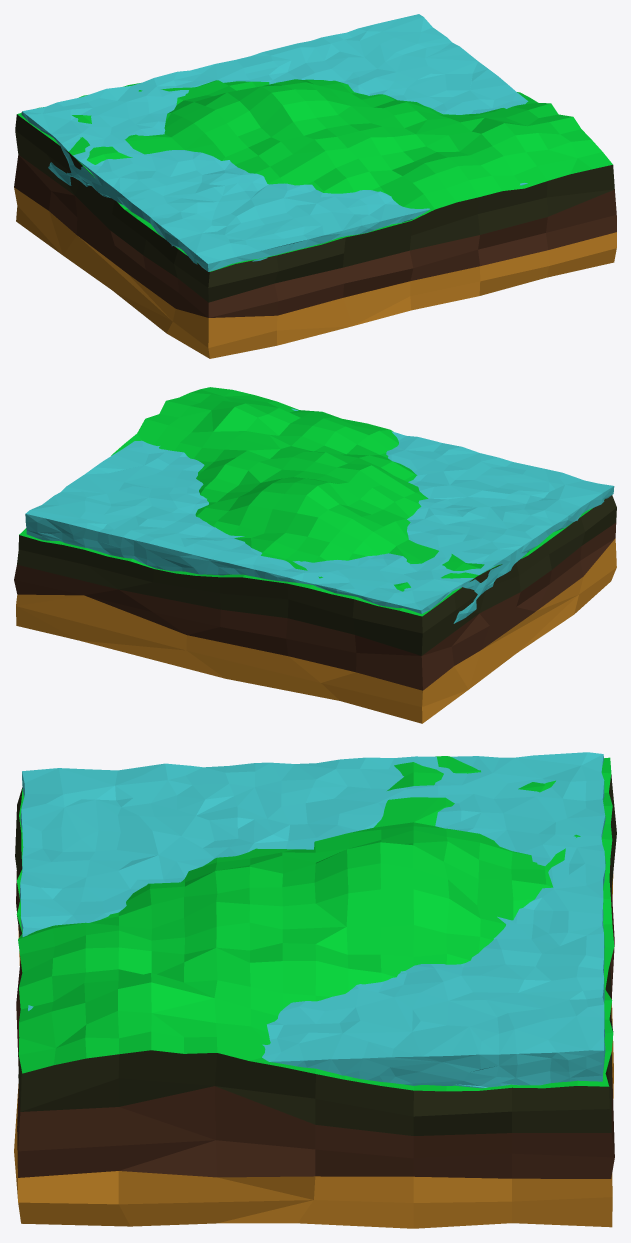
3 views of the same model, one above another, from view 1: azimuth 30°, elevation 25°; view 2: azimuth 150°, elevation 25°; view 3: azimuth 270°, elevation 25° (orthographic). The views are drawn at different scales.
Parts seen in each view (by area): view 1: Cube, Cube.001; view 2: Cube, Cube.001; view 3: Cube, Cube.001.
Part boxes in pixels (left/top/right/bottom): Cube: left=14, top=79, right=616, bottom=358; Cube.001: left=21, top=14, right=528, bottom=271; Cube: left=14, top=387, right=616, bottom=723; Cube.001: left=25, top=408, right=614, bottom=623; Cube: left=14, top=756, right=616, bottom=1228; Cube.001: left=19, top=752, right=605, bottom=1088.
Bounding box in the file's own units: 3755 × 1233 × 3089.
